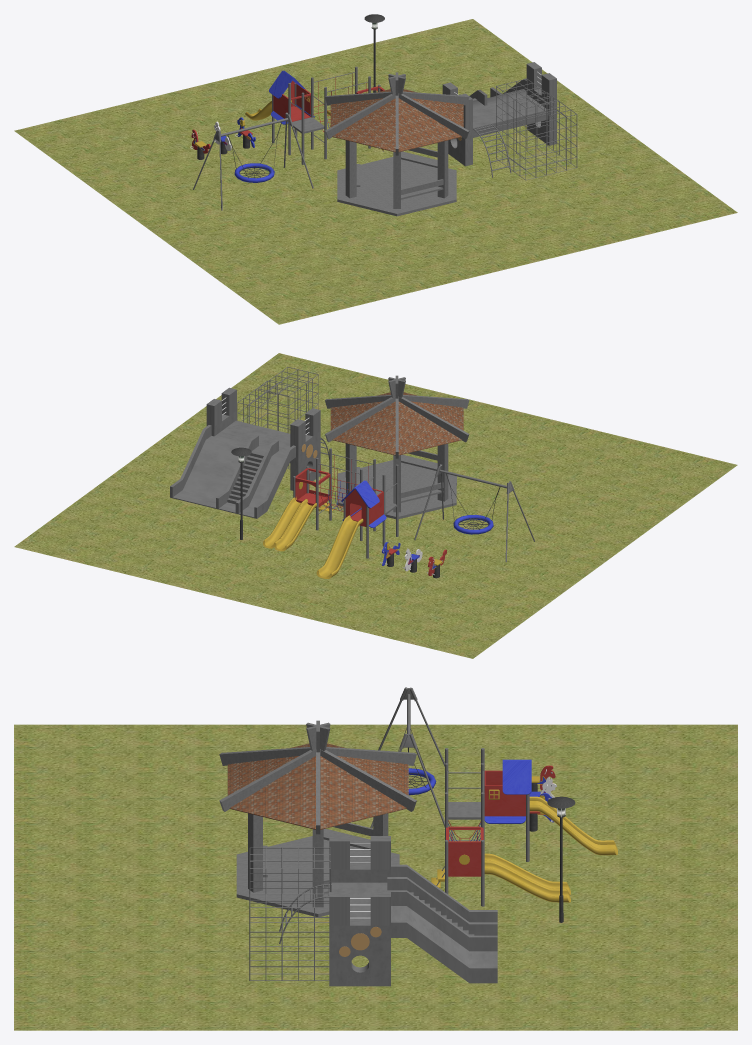
The model's file is park-facilities-optimized.glb.
3 views of the same model, one above another, from view 1: azimuth 30°, elevation 25°; view 2: azimuth 150°, elevation 25°; view 3: azimuth 270°, elevation 25° (orthographic). The views are drawn at different scales.
Visible parts, largest first — view 1: Plane_grass_0, slider_2_concrete_0, slider_2_gray_0, rest_2_roof_0, swing_D_R_0, swing_D_B_0, swing_D_metal_0; view 2: Plane_grass_0, slider_2_gray_0, slider_2_concrete_0, rest_2_roof_0, swing_D_Y_0, swing_D_R_0, swing_D_B_0, swing_D_metal_0, slider_2_concrete.1_0; view 3: Plane_grass_0, slider_2_gray_0, slider_2_concrete_0, rest_2_roof_0, swing_D_Y_0, swing_D_R_0, swing_D_B_0, swing_D_metal_0.
Boxes of the visible parts, x1,y1,x2,y2 form: Plane_grass_0: (14,19,737,324); slider_2_concrete_0: (221,66,511,216); slider_2_gray_0: (193,62,577,210); rest_2_roof_0: (330,89,463,152); swing_D_R_0: (191,73,384,153); swing_D_B_0: (193,70,329,182); swing_D_metal_0: (197,14,384,178); Plane_grass_0: (14,353,737,658); slider_2_gray_0: (170,367,534,562); slider_2_concrete_0: (293,375,506,558); rest_2_roof_0: (330,392,463,455); swing_D_Y_0: (263,482,443,578); swing_D_R_0: (295,455,446,575); swing_D_B_0: (328,480,493,569); swing_D_metal_0: (231,447,500,578); slider_2_concrete.1_0: (227,451,264,504); Plane_grass_0: (14,724,737,1030); slider_2_gray_0: (249,687,497,986); slider_2_concrete_0: (219,694,529,943); rest_2_roof_0: (227,743,408,829); swing_D_Y_0: (431,776,617,902); swing_D_R_0: (446,765,555,876); swing_D_B_0: (408,759,553,841); swing_D_metal_0: (398,727,575,922).
Size of the model in its own units: 2000 by 465 by 2000.
13 materials, 10 textured.
